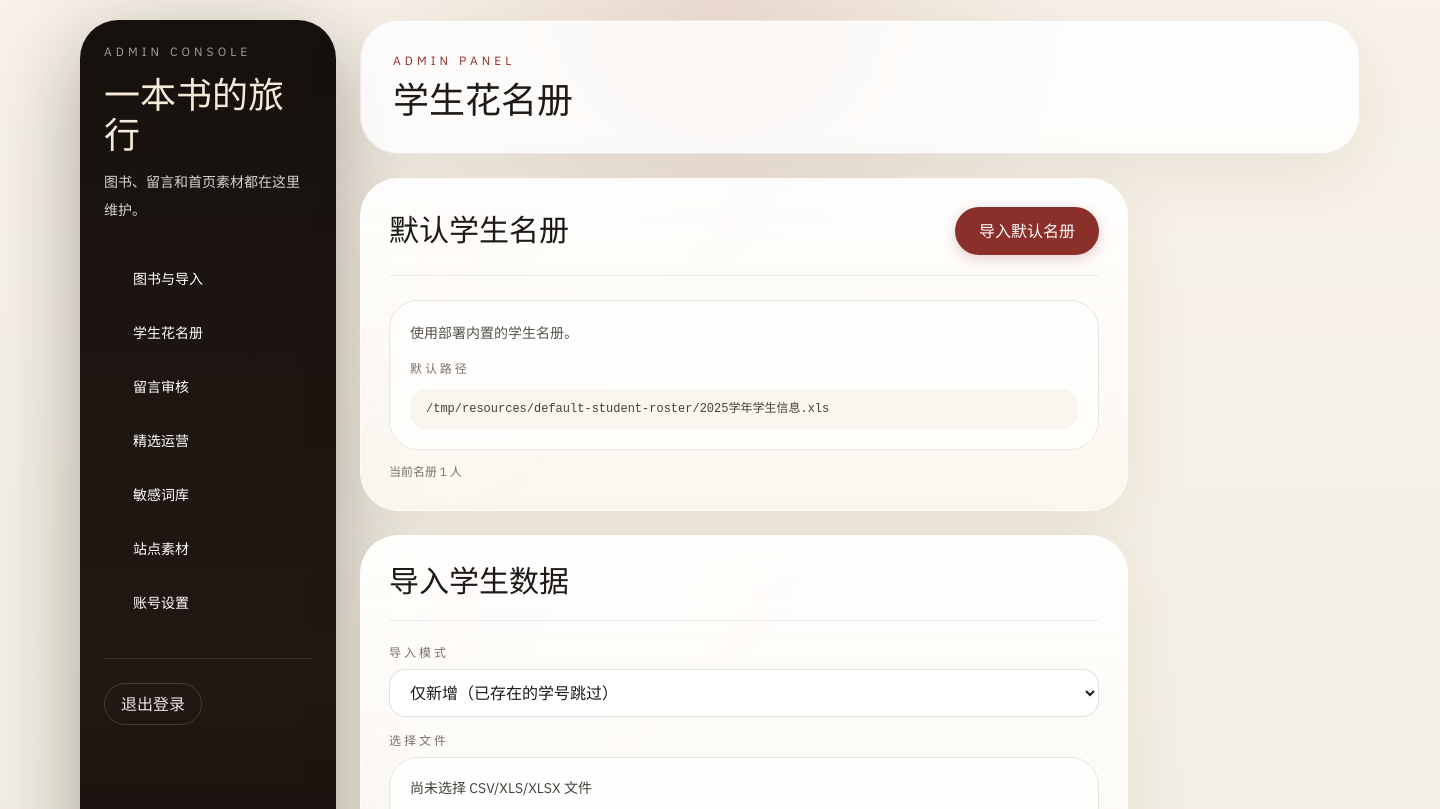
Test: StudentRosterPage › imports the default student roster and shows summary
Click the button "导入默认名册" at {"x": 1027, "y": 231}, box [955,207,1099,255]
(page scrolled)
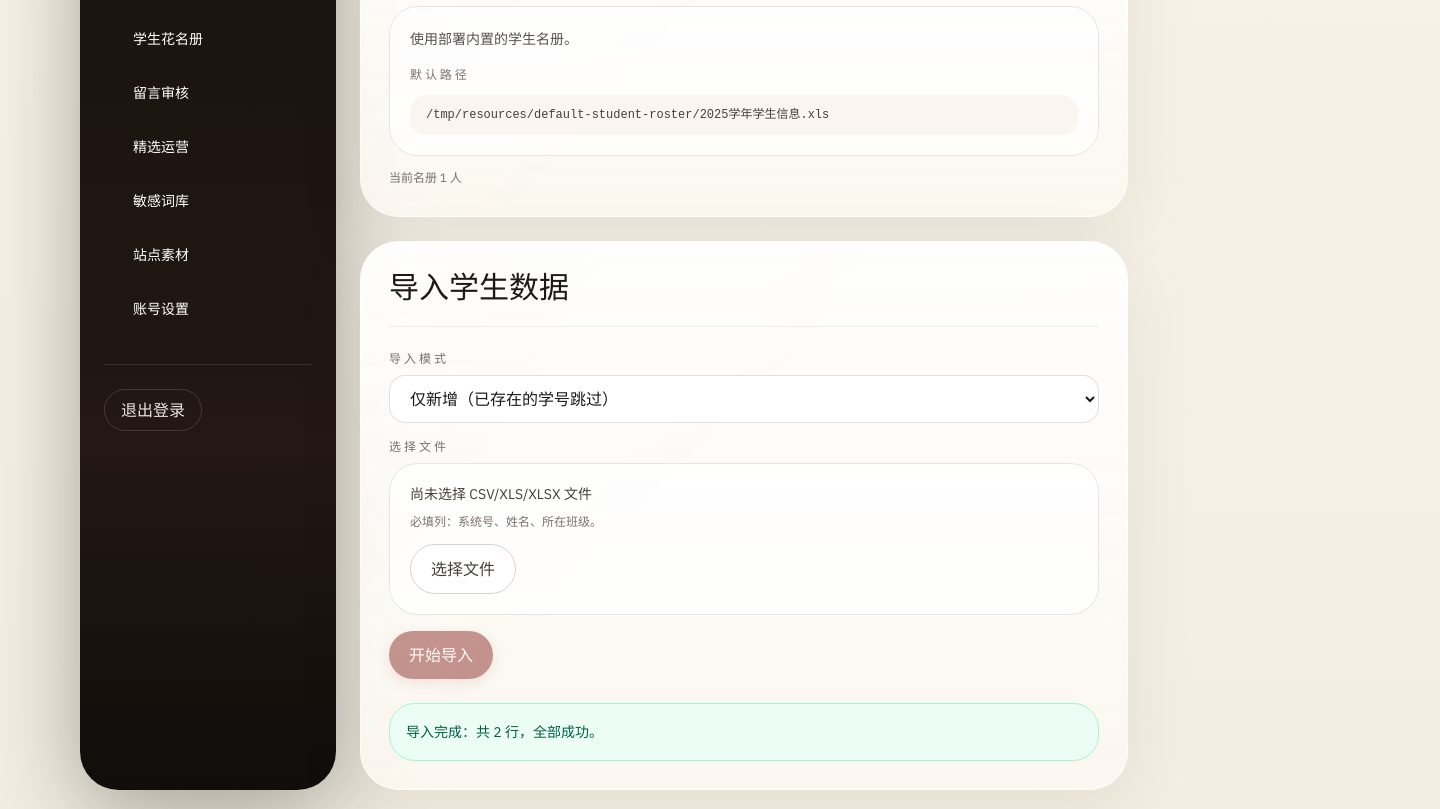
Now the text "导入完成：共 2 行，全部成功。" is shown, box [389,703,1099,761]
